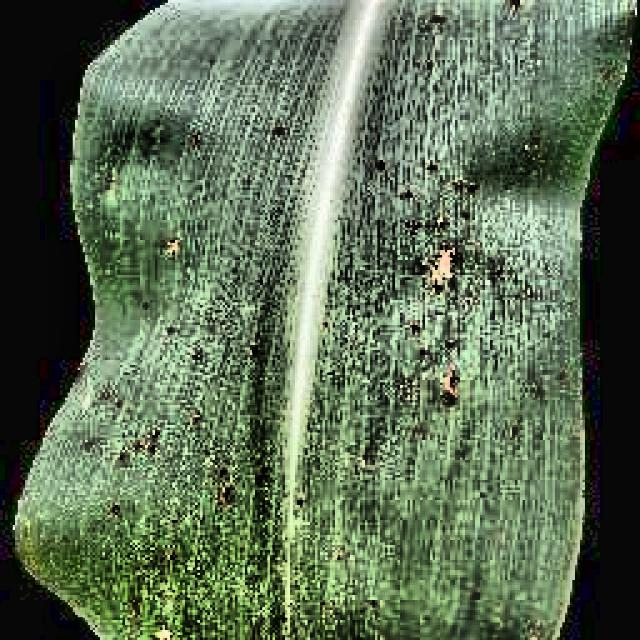common_rust: (80, 10, 589, 639)
